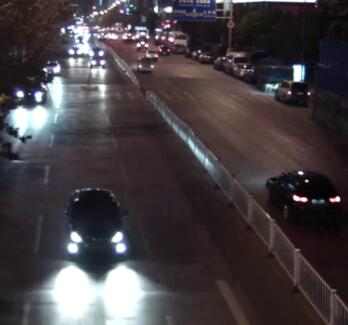bus: (162, 28, 186, 54), (153, 26, 165, 46), (134, 25, 148, 41)
car: (63, 187, 129, 262), (264, 169, 342, 223), (255, 53, 294, 89), (274, 80, 312, 105), (12, 80, 46, 104), (222, 51, 251, 74), (128, 54, 155, 75), (230, 61, 255, 79), (42, 59, 62, 78), (211, 55, 228, 70), (87, 46, 106, 59), (67, 45, 84, 58), (198, 49, 215, 62), (89, 56, 107, 68), (144, 48, 158, 60), (135, 37, 149, 49), (95, 29, 109, 41), (73, 33, 87, 45), (121, 30, 135, 41), (157, 43, 169, 53), (190, 49, 200, 60)
